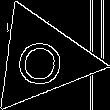O_N: (15, 31, 68, 87)
